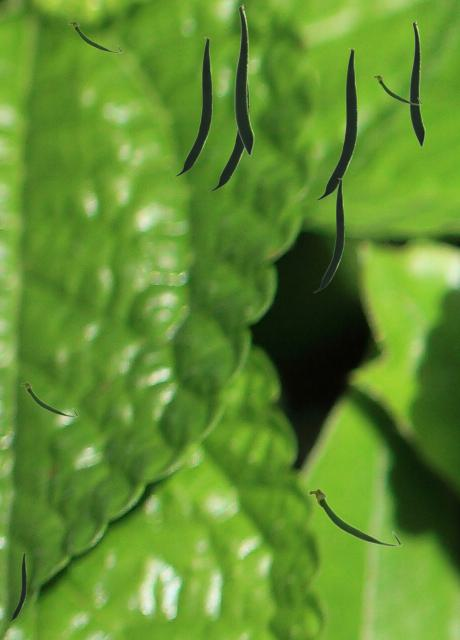french_bean: (315, 48, 356, 199), (307, 487, 401, 546), (174, 37, 211, 175), (209, 81, 248, 190), (313, 178, 343, 291), (234, 4, 253, 155), (20, 381, 77, 416), (409, 20, 424, 146), (68, 20, 121, 52), (373, 74, 421, 104), (9, 552, 25, 620)
